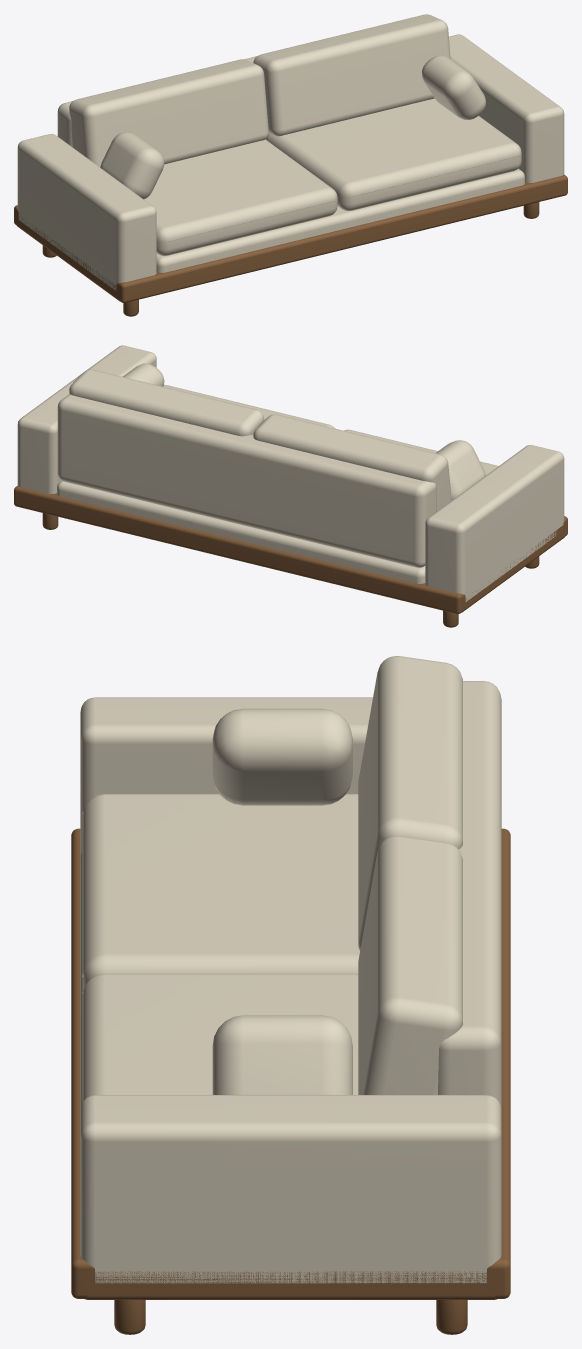
File: stockholm.glb
The picture shows the model from 3 angles, top to bottom: view 1: azimuth 30°, elevation 25°; view 2: azimuth 150°, elevation 25°; view 3: azimuth 270°, elevation 25°; orthographic projection. The views are drawn at different scales.
Parts seen in each view (by area): view 1: Seat cushion 2, Back cushion 2, Seat cushion 1, Back cushion 1, Arm, Exposed timber front rail, Arm.001, Upholstered base, Loose side pillow, Loose side pillow.001, Timber side rail, Back structure; view 2: Back structure, Arm, Exposed timber rear rail, Back cushion 1, Upholstered base, Back cushion 2, Arm.001, Loose side pillow, Timber side rail, Seat cushion 2, Loose side pillow.001, Seat cushion 1; view 3: Arm.001, Seat cushion 1, Back cushion 2, Seat cushion 2, Back cushion 1, Back structure, Arm, Loose side pillow, Loose side pillow.001, Timber side rail.001, Exposed timber front rail, Exposed timber rear rail (+2 smaller).
Part boxes in pixels (bbox=[...]): Seat cushion 2: bbox=[266, 98, 521, 211]; Back cushion 2: bbox=[253, 14, 450, 136]; Seat cushion 1: bbox=[144, 139, 337, 255]; Back cushion 1: bbox=[69, 59, 268, 167]; Arm: bbox=[17, 133, 156, 290]; Exposed timber front rail: bbox=[116, 174, 567, 303]; Arm.001: bbox=[449, 34, 564, 182]; Upholstered base: bbox=[156, 168, 524, 272]; Loose side pillow: bbox=[100, 132, 164, 199]; Loose side pillow.001: bbox=[422, 55, 485, 119]; Timber side rail: bbox=[16, 217, 119, 301]; Back structure: bbox=[57, 56, 256, 146]; Back structure: bbox=[57, 394, 436, 567]; Arm: bbox=[425, 445, 564, 601]; Exposed timber rear rail: bbox=[14, 485, 465, 614]; Back cushion 1: bbox=[253, 414, 451, 511]; Upholstered base: bbox=[57, 480, 425, 583]; Back cushion 2: bbox=[69, 369, 264, 436]; Arm.001: bbox=[17, 345, 156, 493]; Loose side pillow: bbox=[436, 440, 485, 500]; Timber side rail: bbox=[462, 525, 565, 612]; Seat cushion 2: bbox=[163, 384, 334, 428]; Loose side pillow.001: bbox=[123, 363, 164, 386]; Seat cushion 1: bbox=[344, 429, 498, 475]; Arm.001: bbox=[80, 1095, 501, 1283]; Seat cushion 1: bbox=[82, 794, 359, 991]; Back cushion 2: bbox=[358, 835, 462, 1094]; Seat cushion 2: bbox=[82, 973, 358, 1101]; Back cushion 1: bbox=[358, 656, 462, 950]; Back structure: bbox=[438, 681, 501, 1109]; Arm: bbox=[80, 697, 372, 857]; Loose side pillow: bbox=[212, 708, 352, 805]; Loose side pillow.001: bbox=[212, 1015, 352, 1094]; Timber side rail.001: bbox=[84, 1271, 497, 1299]; Exposed timber front rail: bbox=[71, 828, 94, 1298]; Exposed timber rear rail: bbox=[487, 828, 510, 1298].
Size of the model in its own units: 2.5 by 0.8215 by 1.07.
